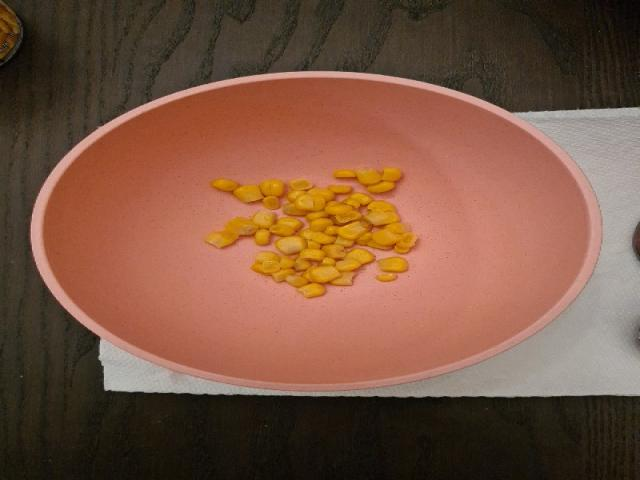kichen waste: (208, 168, 416, 297)
